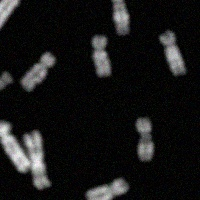chromosome: (22, 128, 51, 191), (0, 123, 30, 173), (21, 49, 56, 90), (159, 32, 187, 78), (85, 175, 129, 200), (90, 34, 113, 77), (135, 117, 155, 160), (0, 0, 20, 41), (108, 0, 130, 35), (0, 71, 15, 95)
